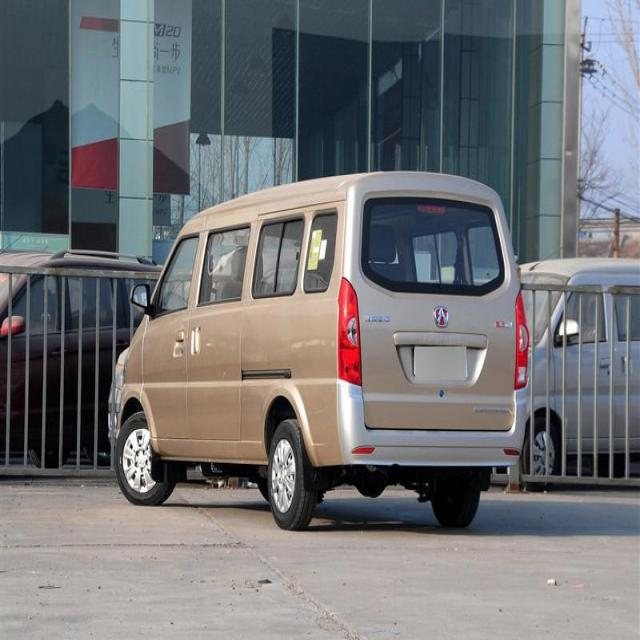back_glass: (362, 190, 505, 296)
back_left_side_light: (338, 274, 362, 387)
back_right_side_light: (515, 286, 529, 394)
door: (189, 218, 262, 443)
front_left_side_door: (139, 212, 210, 447)
front_left_side_mirror: (130, 280, 152, 314)
rear_bumper: (334, 382, 530, 470)
wheel: (268, 421, 310, 529), (118, 416, 168, 504), (428, 489, 482, 526)
